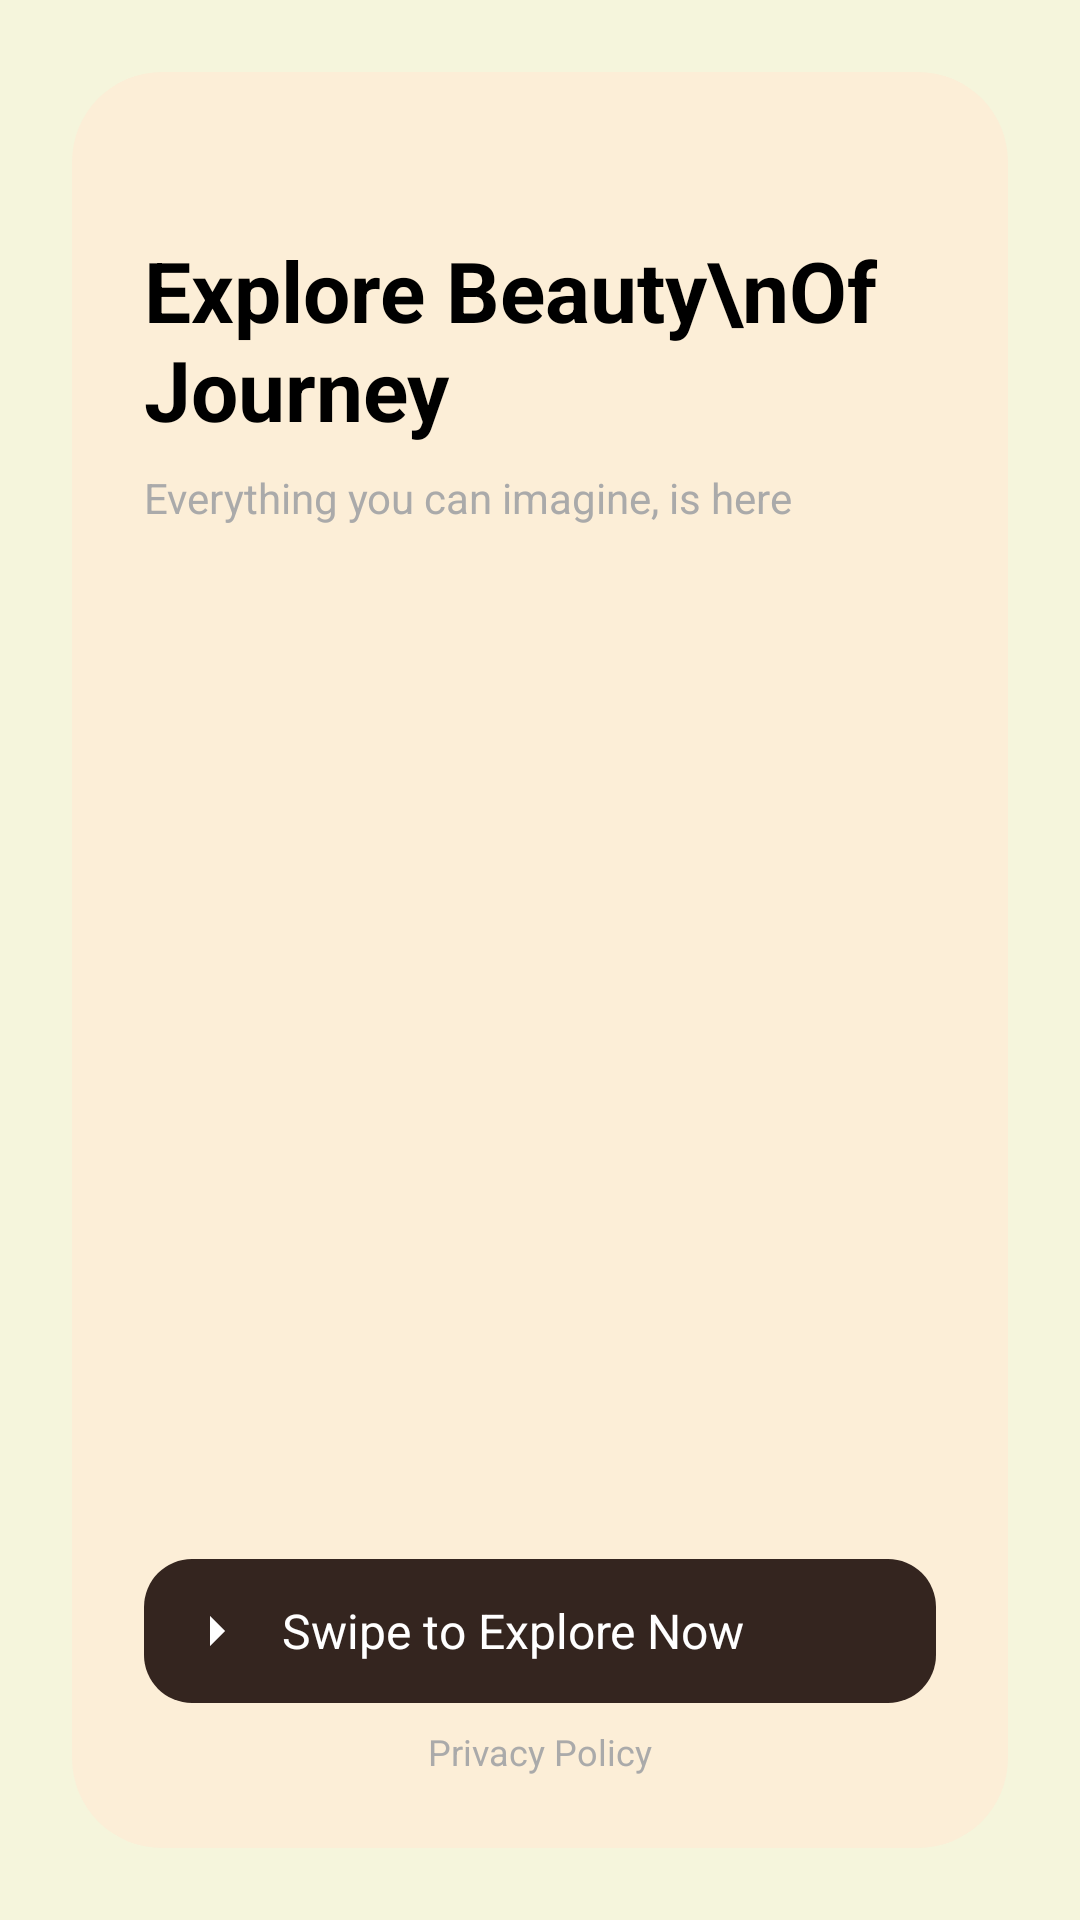

Named icons in this screenshot (1080*1920) and their centers, (x=x, y=y):
arrow right: (x=217, y=1631)
